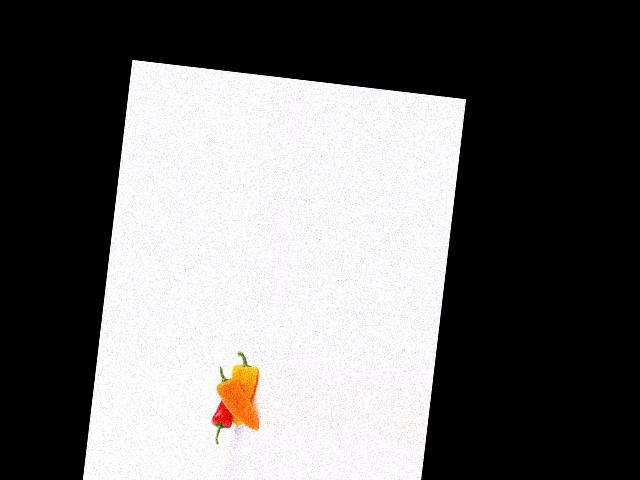bell_pepper: (224, 348, 266, 409)
